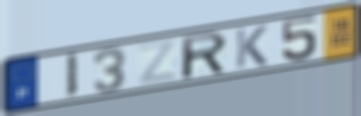3: (91, 46, 128, 94)
5: (280, 14, 319, 63)
I: (64, 51, 80, 100)
K: (234, 23, 270, 70)
R: (179, 30, 229, 81)
Z: (134, 37, 180, 87)
